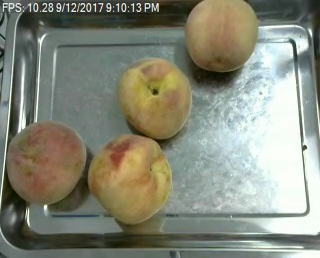Peach: (87, 132, 171, 223), (6, 119, 86, 204), (117, 56, 193, 139), (183, 0, 257, 72)
